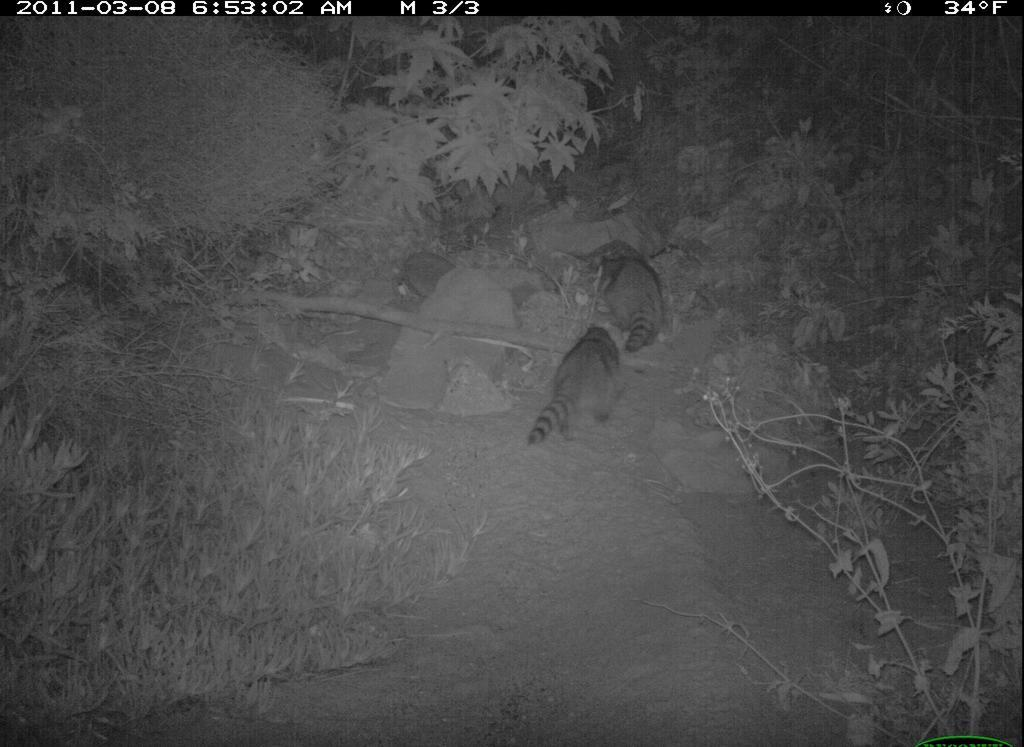raccoon: (523, 324, 629, 451), (589, 239, 671, 356)
